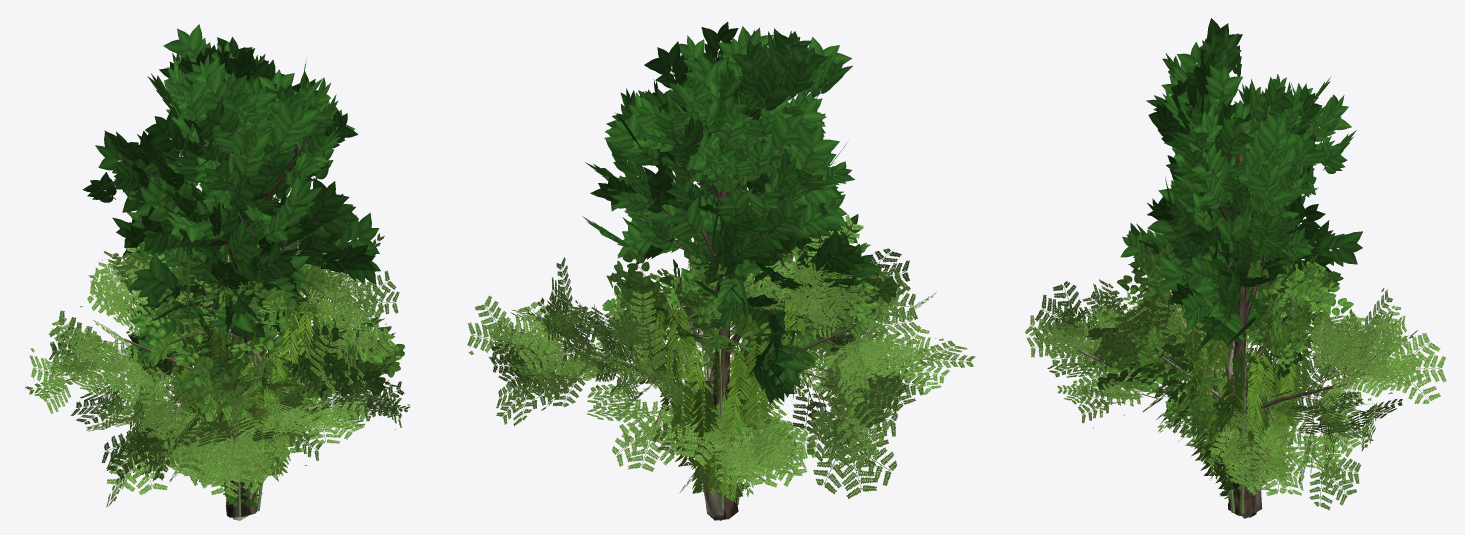
Rendered from veg_lod1.glb.
The picture shows the model from 3 angles, left to right: view 1: azimuth 30°, elevation 25°; view 2: azimuth 150°, elevation 25°; view 3: azimuth 270°, elevation 25°; orthographic projection. The views are drawn at different scales.
Parts seen in each view (by area): view 1: Sal_LOD1_Leaves, Albizia_LOD1_Leaves, Sissoo_LOD1_Leaves, Bamboo_LOD1_Leaves, Sal_LOD1_Wood, Bamboo_LOD1_Wood; view 2: Sal_LOD1_Leaves, Albizia_LOD1_Leaves, Bamboo_LOD1_Leaves, Sissoo_LOD1_Leaves, Sal_LOD1_Wood, Sissoo_LOD1_Wood, Bamboo_LOD1_Wood, Albizia_LOD1_Wood; view 3: Sal_LOD1_Leaves, Albizia_LOD1_Leaves, Sissoo_LOD1_Leaves, Bamboo_LOD1_Leaves, Sal_LOD1_Wood, Sissoo_LOD1_Wood, Bamboo_LOD1_Wood, Albizia_LOD1_Wood.
Part boxes in pixels (left/top/right/bottom): Sal_LOD1_Leaves: left=82, top=24, right=380, bottom=388; Albizia_LOD1_Leaves: left=25, top=196, right=410, bottom=507; Sissoo_LOD1_Leaves: left=133, top=235, right=404, bottom=427; Bamboo_LOD1_Leaves: left=169, top=260, right=335, bottom=481; Sal_LOD1_Wood: left=156, top=110, right=309, bottom=517; Bamboo_LOD1_Wood: left=180, top=255, right=315, bottom=517; Sal_LOD1_Leaves: left=582, top=22, right=881, bottom=404; Albizia_LOD1_Leaves: left=467, top=214, right=975, bottom=498; Bamboo_LOD1_Leaves: left=628, top=258, right=805, bottom=503; Sissoo_LOD1_Leaves: left=602, top=231, right=897, bottom=421; Sal_LOD1_Wood: left=650, top=132, right=785, bottom=520; Sissoo_LOD1_Wood: left=662, top=254, right=796, bottom=520; Bamboo_LOD1_Wood: left=666, top=263, right=784, bottom=513; Albizia_LOD1_Wood: left=556, top=310, right=864, bottom=416; Sal_LOD1_Leaves: left=1120, top=18, right=1362, bottom=353; Albizia_LOD1_Leaves: left=1024, top=202, right=1446, bottom=509; Sissoo_LOD1_Leaves: left=1088, top=229, right=1353, bottom=440; Bamboo_LOD1_Leaves: left=1134, top=286, right=1333, bottom=489; Sal_LOD1_Wood: left=1218, top=122, right=1305, bottom=517; Sissoo_LOD1_Wood: left=1160, top=287, right=1299, bottom=518; Bamboo_LOD1_Wood: left=1169, top=290, right=1306, bottom=513; Albizia_LOD1_Wood: left=1078, top=349, right=1369, bottom=517.
Size of the model in its own units: 24.72 by 27.08 by 22.7.
11 materials, 9 textured.
